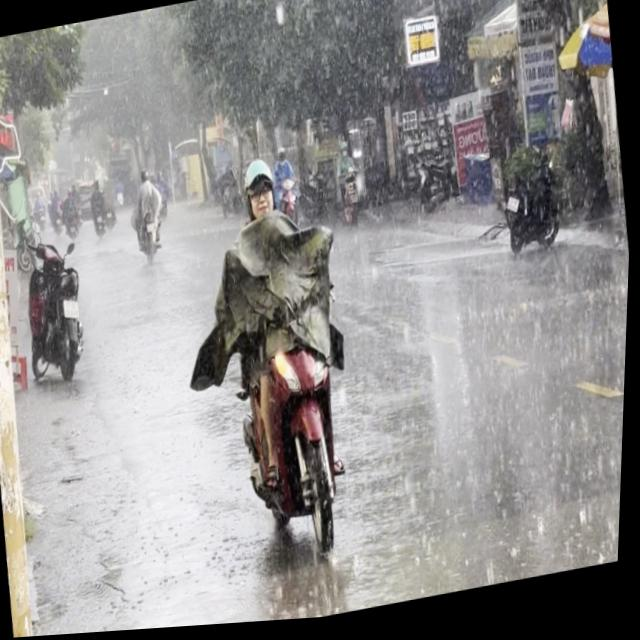helmet: (242, 158, 281, 223)
licenseplate: (189, 140, 386, 589)
